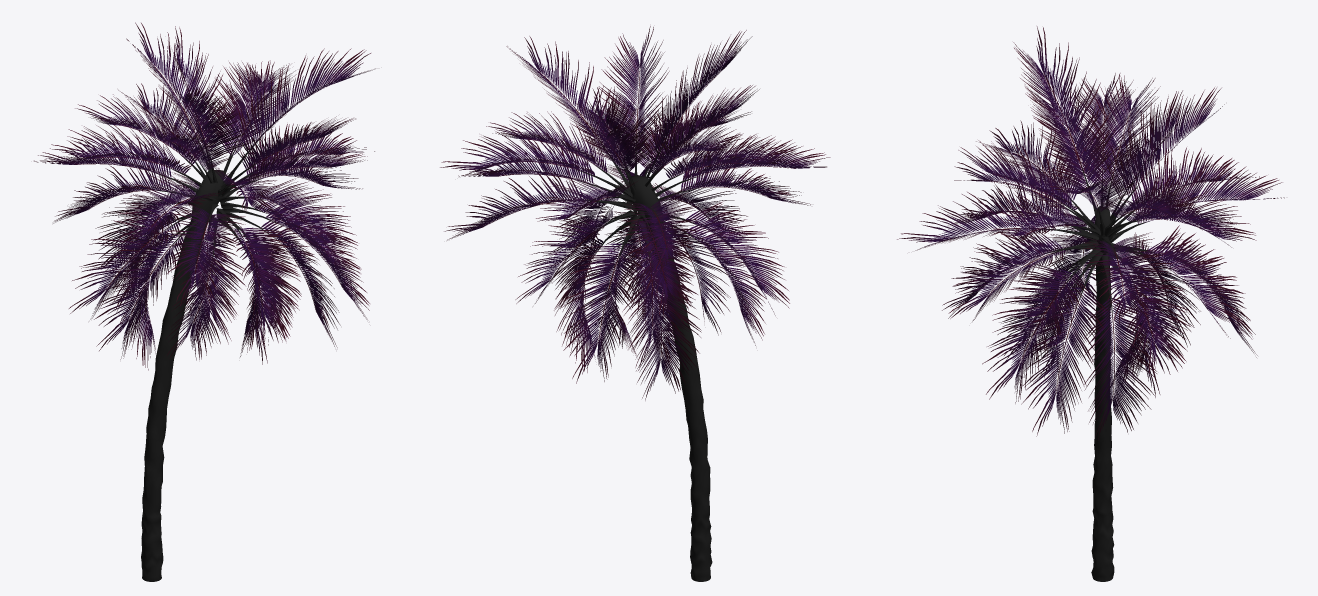
Rendered from date_palm_exported.glb.
3 renders of one model, left to right at view 1: azimuth 30°, elevation 25°; view 2: azimuth 150°, elevation 25°; view 3: azimuth 270°, elevation 25°, orthographic. The views are drawn at different scales.
Parts seen in each view (by area): view 1: Tree_1, Tree_0, Tree_3; view 2: Tree_1, Tree_0, Tree_3; view 3: Tree_1, Tree_0, Tree_3.
Part boxes in pixels (box(x1,y1,x2,y2)): Tree_1: box(34, 22, 375, 370); Tree_0: box(141, 170, 224, 581); Tree_3: box(154, 134, 283, 259); Tree_1: box(440, 26, 830, 400); Tree_0: box(628, 175, 712, 581); Tree_3: box(565, 136, 701, 281); Tree_1: box(897, 26, 1284, 439); Tree_0: box(1091, 206, 1114, 581); Tree_3: box(1041, 162, 1166, 317).
Bounding box in the file's own units: 5.2 × 7.52 × 5.21.
3 materials, 1 textured.
